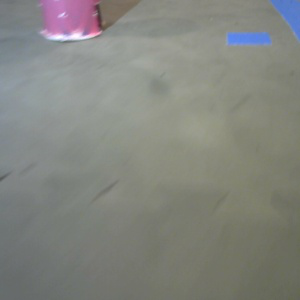middle: (38, 1, 108, 44)
